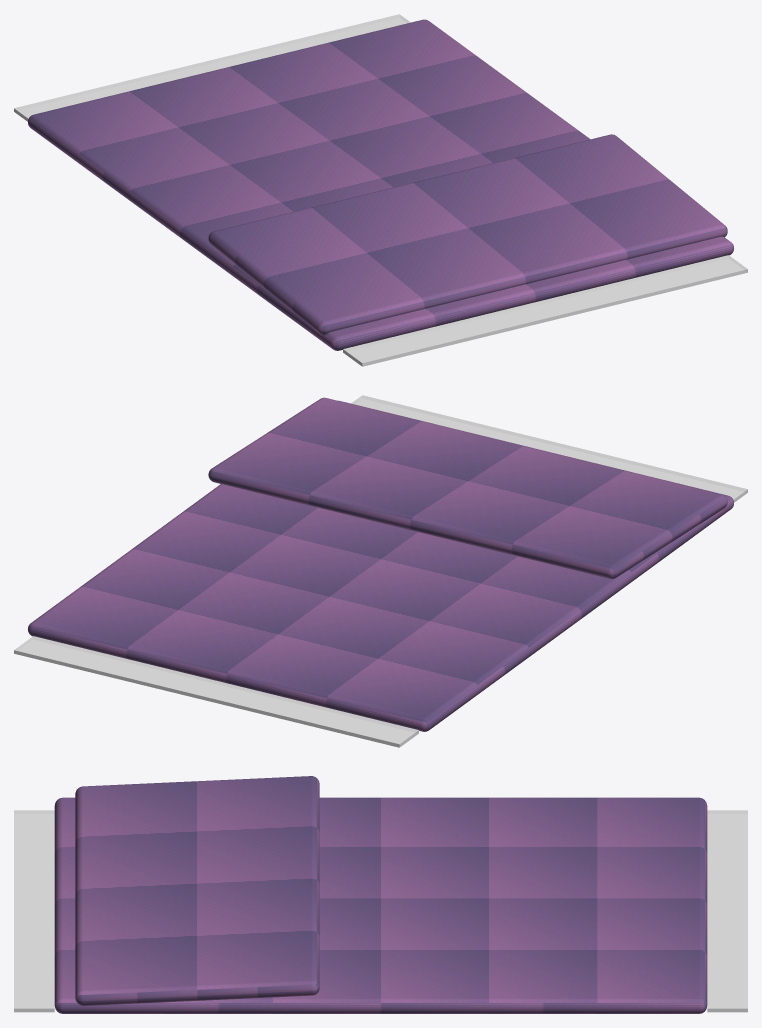
The model's file is state-default.glb.
3 views of the same model, one above another, from view 1: azimuth 30°, elevation 25°; view 2: azimuth 150°, elevation 25°; view 3: azimuth 270°, elevation 25° (orthographic). The views are drawn at different scales.
Parts seen in each view (by area): view 1: assetPrim:998aaee1750c98-19c7441f967:wool-throw-base, assetPrim:998aaee1750c98-19c7441f967:wool-throw-fold, assetPrim:998aaee1750c98-19c7441f967:wool-throw-fringe-s, assetPrim:998aaee1750c98-19c7441f967:wool-throw-fringe-n; view 2: assetPrim:998aaee1750c98-19c7441f967:wool-throw-base, assetPrim:998aaee1750c98-19c7441f967:wool-throw-fold, assetPrim:998aaee1750c98-19c7441f967:wool-throw-fringe-n, assetPrim:998aaee1750c98-19c7441f967:wool-throw-fringe-s; view 3: assetPrim:998aaee1750c98-19c7441f967:wool-throw-base, assetPrim:998aaee1750c98-19c7441f967:wool-throw-fold, assetPrim:998aaee1750c98-19c7441f967:wool-throw-fringe-n, assetPrim:998aaee1750c98-19c7441f967:wool-throw-fringe-s.
Boxes of the visible parts, <box> form: assetPrim:998aaee1750c98-19c7441f967:wool-throw-base: <box>28,19,733,350</box>; assetPrim:998aaee1750c98-19c7441f967:wool-throw-fold: <box>208,134,727,335</box>; assetPrim:998aaee1750c98-19c7441f967:wool-throw-fringe-s: <box>343,255,747,366</box>; assetPrim:998aaee1750c98-19c7441f967:wool-throw-fringe-n: <box>14,14,410,121</box>; assetPrim:998aaee1750c98-19c7441f967:wool-throw-base: <box>28,400,733,731</box>; assetPrim:998aaee1750c98-19c7441f967:wool-throw-fold: <box>208,397,727,578</box>; assetPrim:998aaee1750c98-19c7441f967:wool-throw-fringe-n: <box>14,636,418,747</box>; assetPrim:998aaee1750c98-19c7441f967:wool-throw-fringe-s: <box>351,395,747,502</box>; assetPrim:998aaee1750c98-19c7441f967:wool-throw-base: <box>54,797,707,1013</box>; assetPrim:998aaee1750c98-19c7441f967:wool-throw-fold: <box>75,776,319,1005</box>; assetPrim:998aaee1750c98-19c7441f967:wool-throw-fringe-n: <box>707,810,747,1012</box>; assetPrim:998aaee1750c98-19c7441f967:wool-throw-fringe-s: <box>14,810,54,1012</box>.
Size of the model in its own units: 1.22 by 0.094 by 1.8.
Materials: 4 (2 with a texture image).
